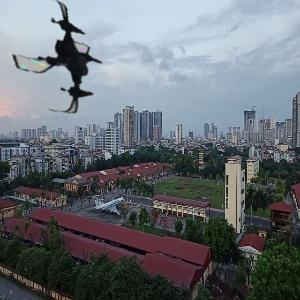drone: (9, 5, 118, 114)
